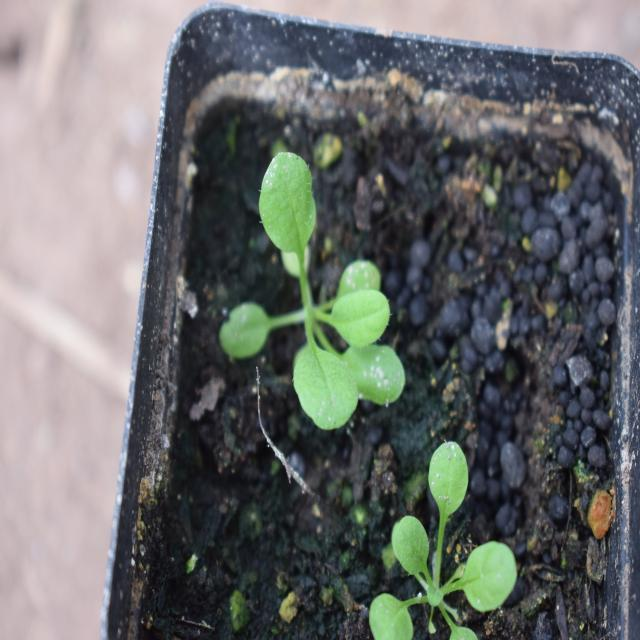Shepherd_Purse: (214, 156, 418, 441), (363, 429, 513, 634)
